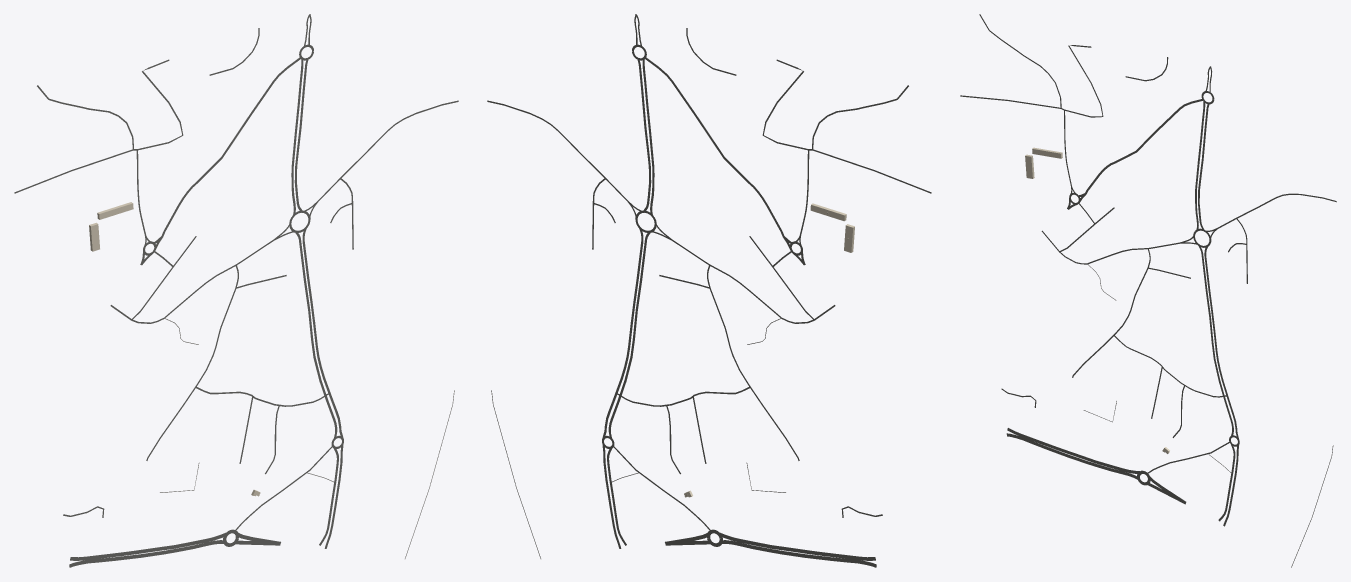
The model's file is historic-palestine-11_34_3531_3286.glb.
3 renders of one model, left to right at view 1: azimuth 30°, elevation 25°; view 2: azimuth 150°, elevation 25°; view 3: azimuth 330°, elevation 25°, orthographic. The views are drawn at different scales.
Visible parts, largest first — view 1: Road طريق الجليل.003, Road طريق الجليل.002, Road جمال عبد الناصر.004, Road جمال عبد الناصر.005, Road شارع الدوحة.003; view 2: Road طريق الجليل.002, Road طريق الجليل.003, Road جمال عبد الناصر.004, Road جمال عبد الناصر.005, Road شارع الدوحة.003; view 3: Road طريق الجليل.002, Road طريق الجليل.003, Road جمال عبد الناصر.004.
Part boxes in pixels (x1,y1,x2,y2): Road طريق الجليل.003: (70,532,227,560); Road طريق الجليل.002: (69,540,225,567); Road جمال عبد الناصر.004: (302,227,343,439); Road جمال عبد الناصر.005: (295,231,337,438); Road شارع الدوحة.003: (161,57,301,236); Road طريق الجليل.002: (721,540,876,567); Road طريق الجليل.003: (719,532,875,560); Road جمال عبد الناصر.004: (602,228,643,439); Road جمال عبد الناصر.005: (608,231,650,438); Road شارع الدوحة.003: (644,57,783,236); Road طريق الجليل.002: (1006,433,1138,479); Road طريق الجليل.003: (1007,428,1140,473); Road جمال عبد الناصر.004: (1204,245,1239,439).
Size of the model in its own units: 1017 by 1245 by 8.7.
